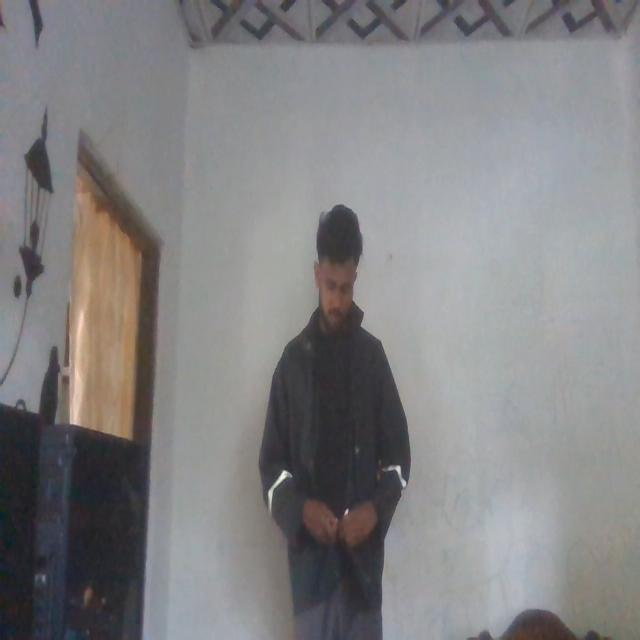Jacket_Wearer: (255, 300, 411, 614)
Person: (259, 197, 411, 640)
